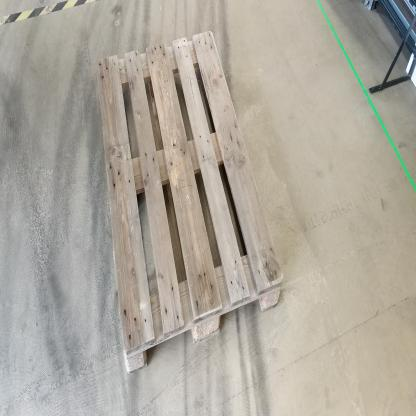BoxFace: (94, 22, 287, 382)
